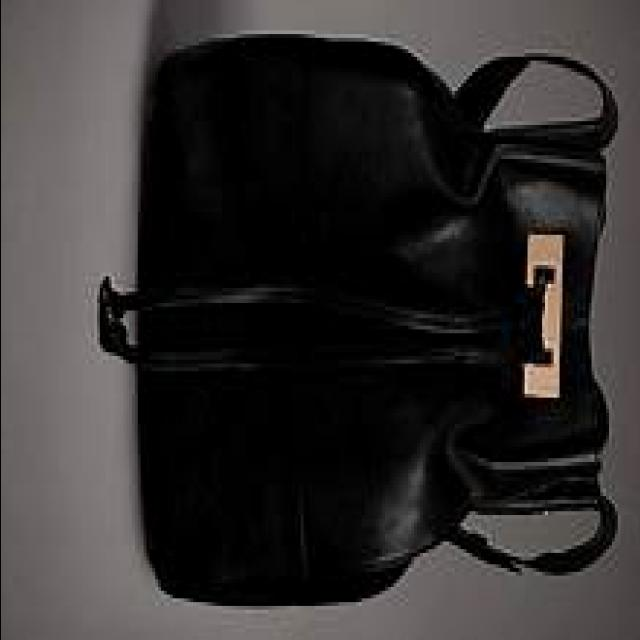backpack: (103, 31, 623, 607)
